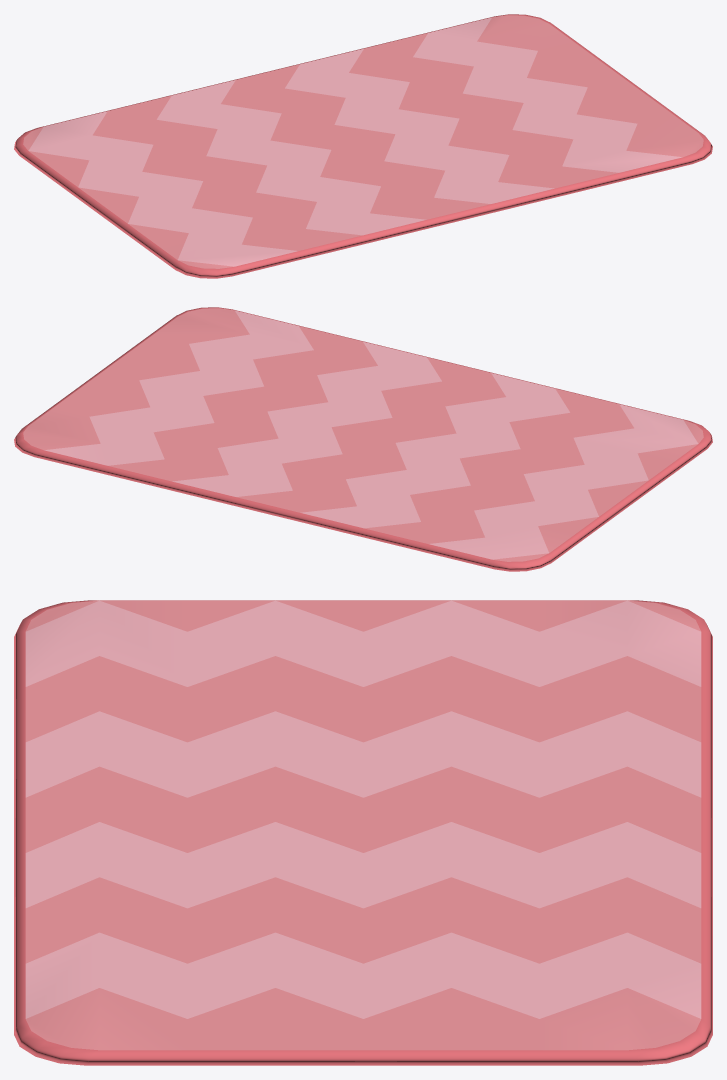
Rendered from Carpet_05.glb.
The picture shows the model from 3 angles, top to bottom: view 1: azimuth 30°, elevation 25°; view 2: azimuth 150°, elevation 25°; view 3: azimuth 270°, elevation 25°; orthographic projection. The views are drawn at different scales.
Parts seen in each view (by area): view 1: Carpet_05; view 2: Carpet_05; view 3: Carpet_05.
Part boxes in pixels (left/top/right/bottom): Carpet_05: left=14, top=14, right=712, bottom=278; Carpet_05: left=14, top=307, right=712, bottom=571; Carpet_05: left=14, top=600, right=712, bottom=1065.
Size of the model in its own units: 2.8 by 0.03 by 1.8.
Materials: 1 (1 with a texture image).
